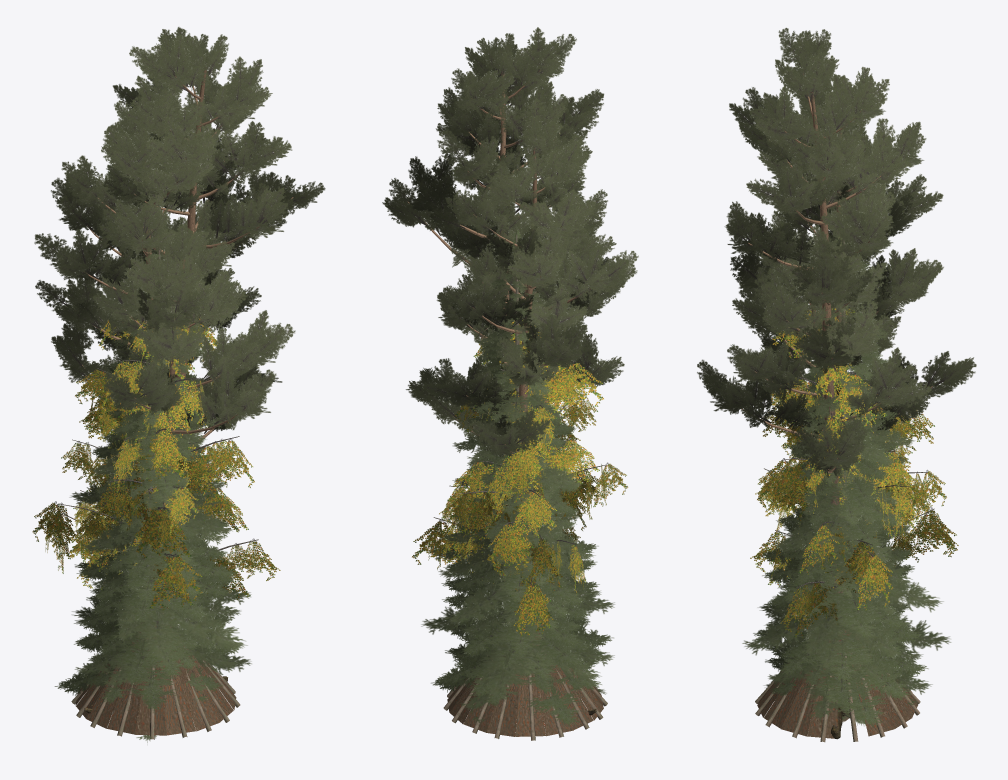
Rendered from forest.glb.
3 renders of one model, left to right at view 1: azimuth 30°, elevation 25°; view 2: azimuth 150°, elevation 25°; view 3: azimuth 270°, elevation 25°, orthographic. The views are drawn at different scales.
Visible parts, largest first — view 1: spruce_a, pine_c, pine_b, pine_a, birch_a, birch_b, spruce_b, kota; view 2: spruce_a, pine_a, pine_c, pine_b, birch_b, birch_a, spruce_b, kota; view 3: spruce_a, pine_c, pine_b, pine_a, birch_b, birch_a, spruce_b, kota.
Part boxes in pixels (x1,y1,x2,y2): spruce_a: [54, 209, 251, 710]; pine_c: [92, 27, 325, 608]; pine_b: [51, 216, 295, 507]; pine_a: [34, 98, 261, 543]; birch_a: [73, 317, 254, 610]; birch_b: [32, 395, 280, 609]; spruce_b: [75, 402, 230, 742]; kota: [71, 622, 240, 739]; spruce_a: [421, 228, 614, 726]; pine_a: [434, 115, 638, 550]; pine_c: [382, 27, 604, 380]; pine_b: [406, 217, 625, 457]; birch_b: [412, 408, 599, 636]; birch_a: [439, 300, 628, 587]; spruce_b: [455, 385, 606, 722]; kota: [443, 633, 607, 740]; spruce_a: [742, 236, 951, 727]; pine_c: [724, 27, 926, 721]; pine_b: [697, 210, 976, 548]; pine_a: [730, 109, 943, 590]; birch_b: [750, 405, 958, 638]; birch_a: [755, 308, 946, 592]; spruce_b: [764, 411, 932, 725]; kota: [755, 630, 920, 742].
Bounding box in the file's own units: 10.05 × 23.17 × 9.19.
Materials: 11 (11 with a texture image).
